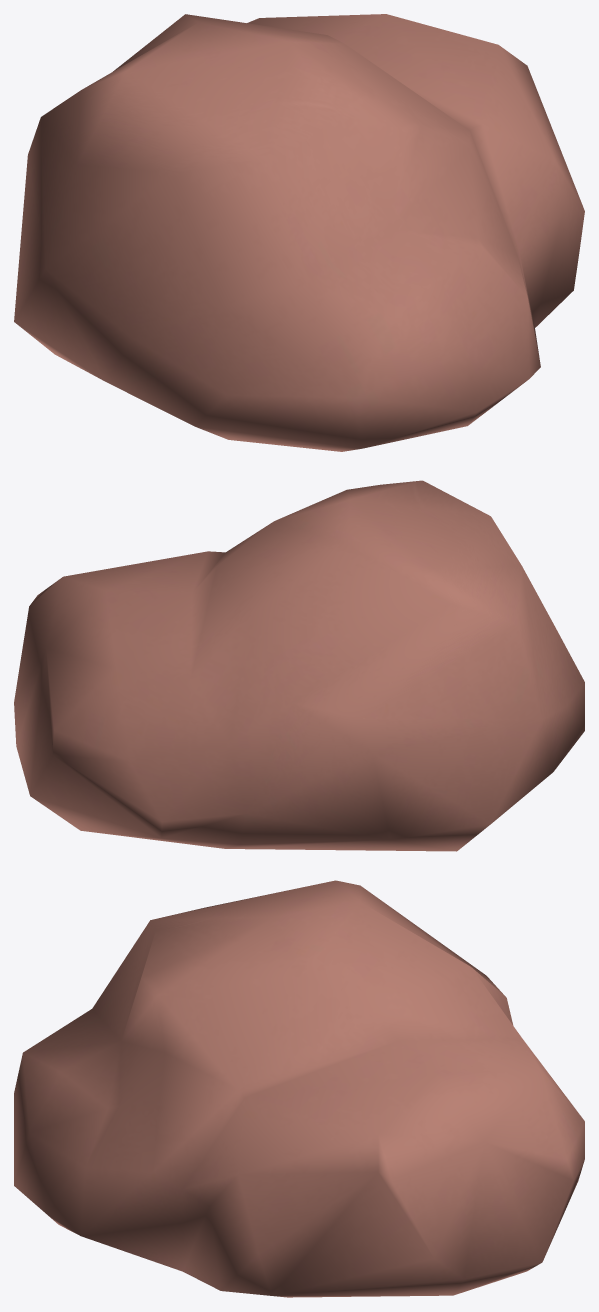
The picture shows the model from 3 angles, top to bottom: view 1: azimuth 30°, elevation 25°; view 2: azimuth 150°, elevation 25°; view 3: azimuth 270°, elevation 25°; orthographic projection. The views are drawn at different scales.
Visible parts, largest first — view 1: tripo_node_30a35814-75d2-4cd3-aea9-6b6b4bbeb78d; view 2: tripo_node_30a35814-75d2-4cd3-aea9-6b6b4bbeb78d; view 3: tripo_node_30a35814-75d2-4cd3-aea9-6b6b4bbeb78d.
Part boxes in pixels (<box>): tripo_node_30a35814-75d2-4cd3-aea9-6b6b4bbeb78d: <box>14,14,584,451</box>; tripo_node_30a35814-75d2-4cd3-aea9-6b6b4bbeb78d: <box>14,480,584,851</box>; tripo_node_30a35814-75d2-4cd3-aea9-6b6b4bbeb78d: <box>14,880,584,1297</box>.
Bounding box in the file's own units: 0.9629 × 0.6504 × 0.998.
1 material, 1 textured.
